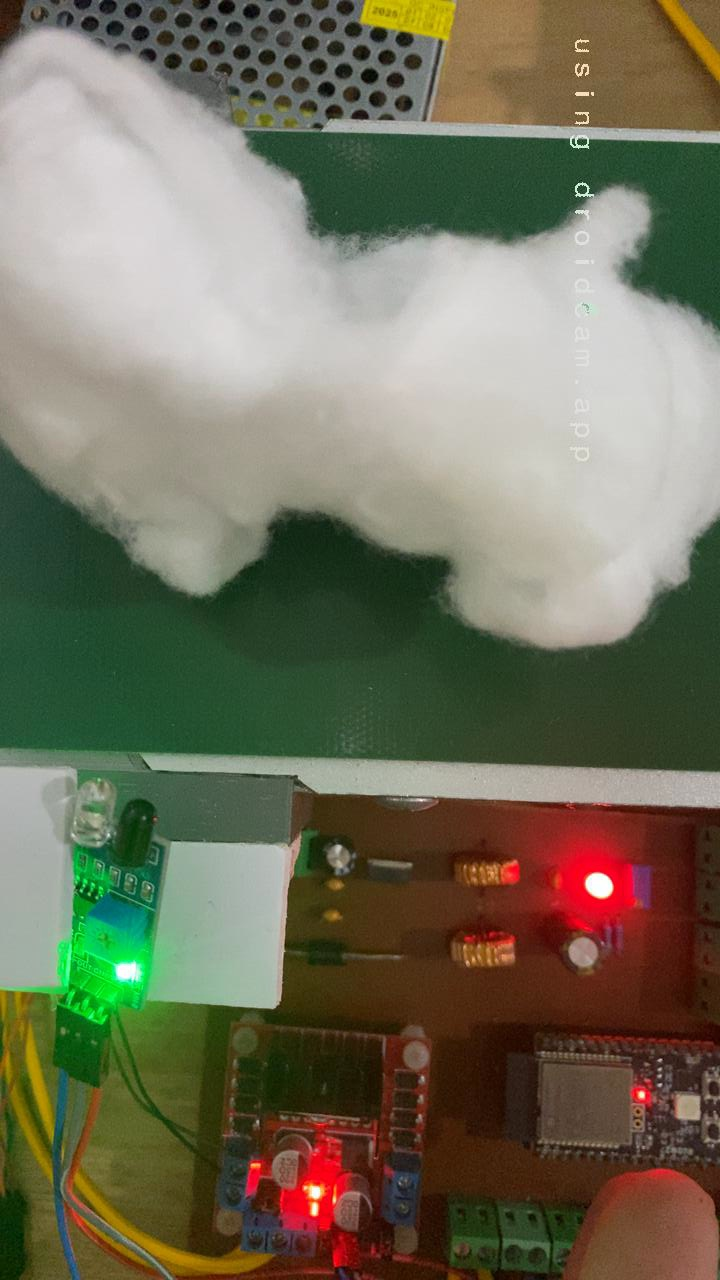cotton: (0, 137, 720, 659)
